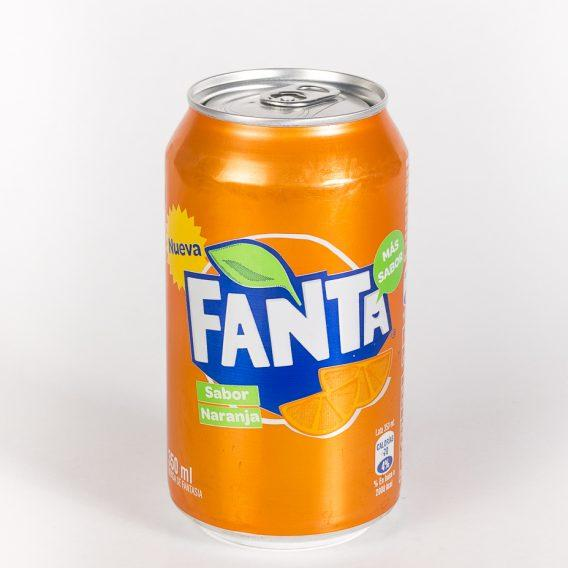metal: (166, 68, 407, 548)
